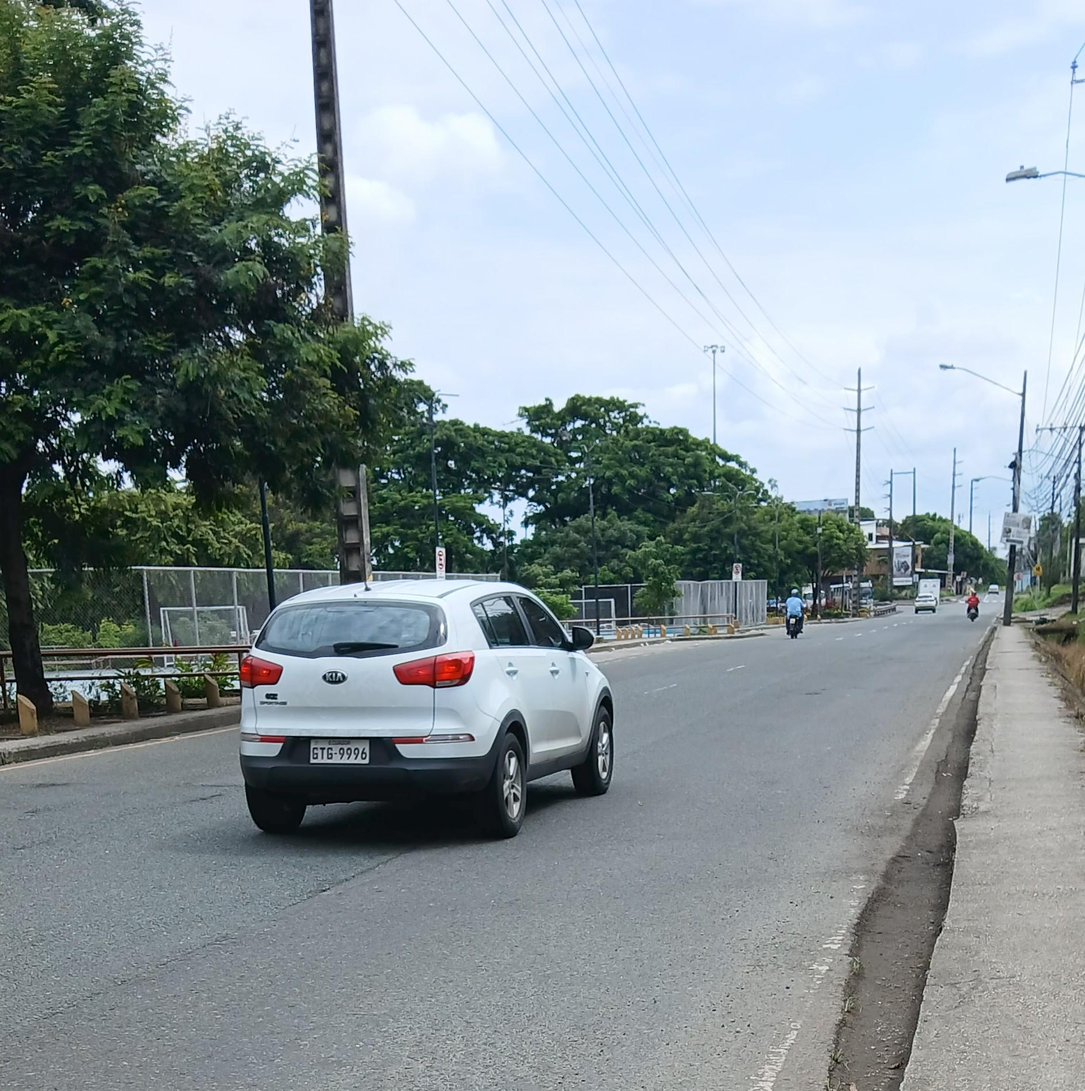license_plate: (308, 738, 370, 762)
